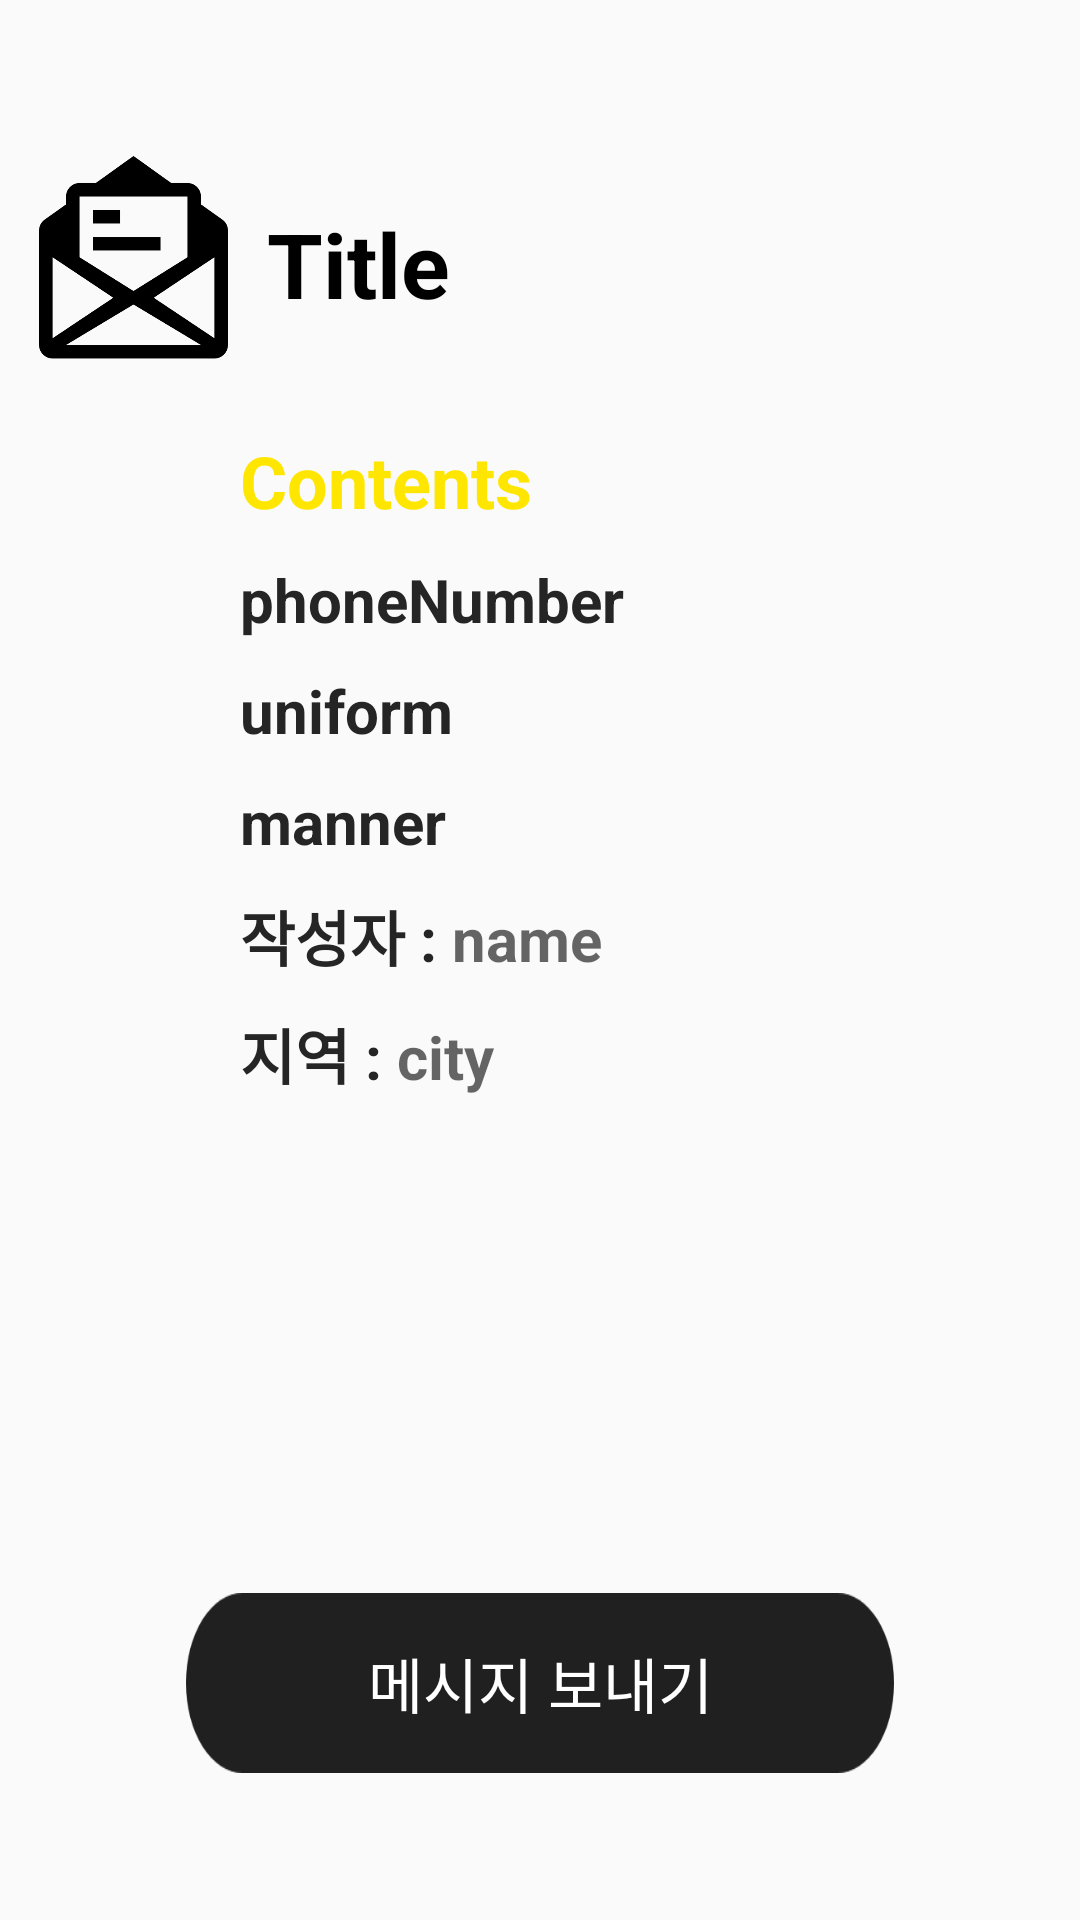

Named icons in this screenshot (1080 × 1920) and their centers, (x,y):
postshow: (133,257)
